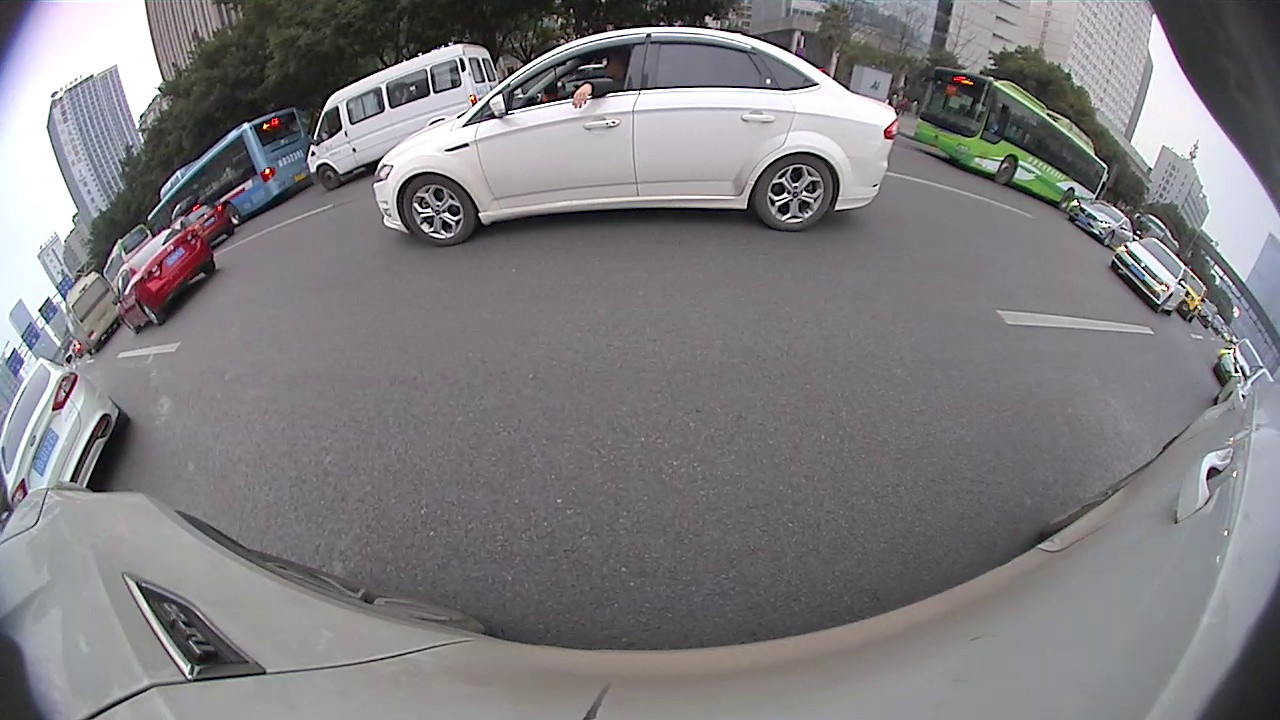bus: (909, 68, 1108, 208), (149, 104, 318, 241), (63, 273, 124, 356)
car: (377, 25, 898, 248), (308, 47, 497, 188), (2, 362, 130, 515), (120, 227, 217, 330), (1108, 237, 1188, 316), (1072, 198, 1129, 244), (178, 200, 234, 245)
front: (399, 169, 476, 246), (995, 154, 1019, 187), (316, 163, 341, 191), (1104, 229, 1116, 246)
rear: (752, 150, 837, 233), (138, 300, 160, 328), (224, 202, 243, 227), (1057, 185, 1074, 212)
